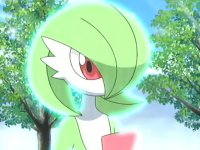gardevoir: (23, 1, 151, 150)
